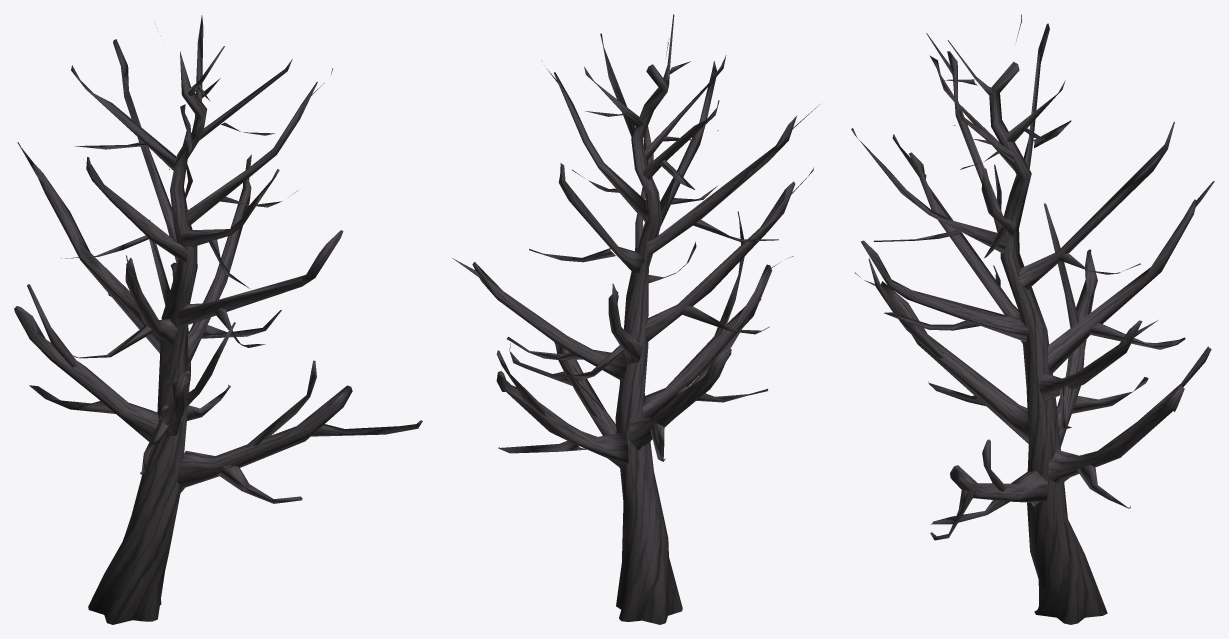
Rendered from dead_tree_free_model_b_b_b_lo.glb.
3 views of the same model, side by side, from view 1: azimuth 30°, elevation 25°; view 2: azimuth 150°, elevation 25°; view 3: azimuth 270°, elevation 25° (orthographic). The views are drawn at different scales.
Parts seen in each view (by area): view 1: DeadTree_2; view 2: DeadTree_2; view 3: DeadTree_2.
Boxes of the visible parts, box(x1,y1,x2,y2) form: DeadTree_2: box(14, 15, 422, 624); DeadTree_2: box(452, 14, 819, 624); DeadTree_2: box(851, 14, 1214, 624).
Bounding box in the file's own units: 6.72 × 11.49 × 6.37.
Materials: 1 (1 with a texture image).
